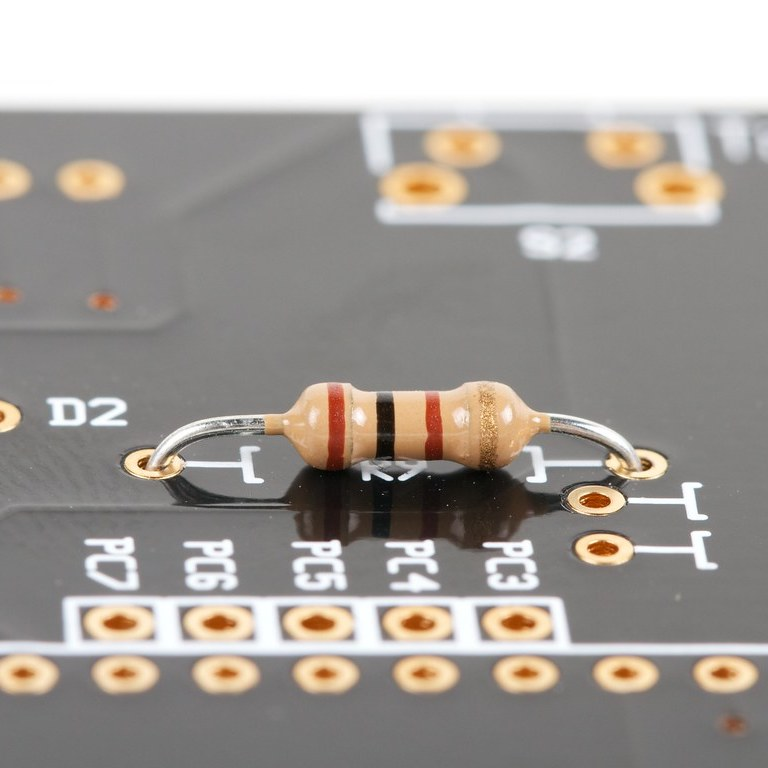Resistor: (281, 380, 540, 473)
